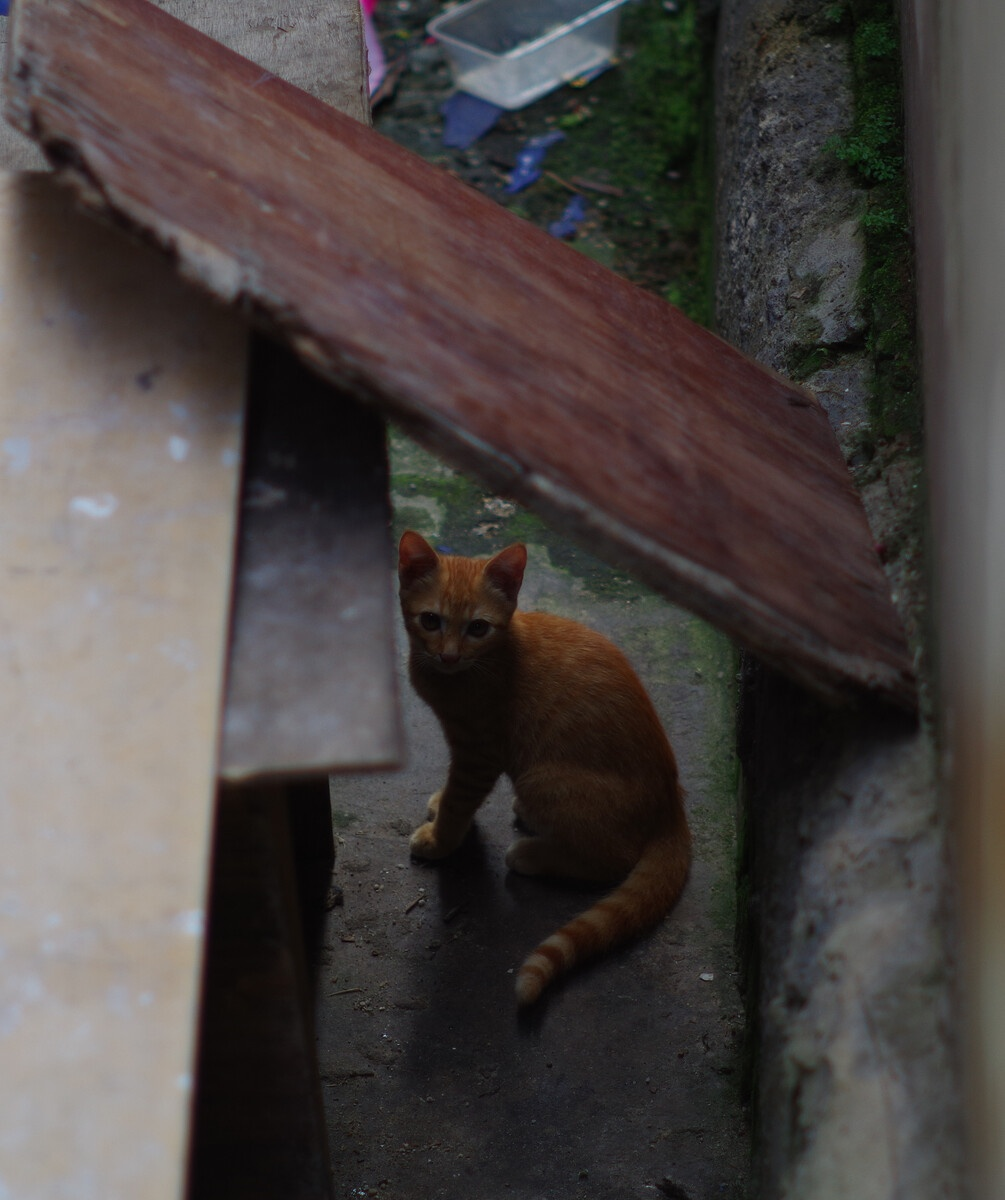cat: (397, 532, 693, 1016)
